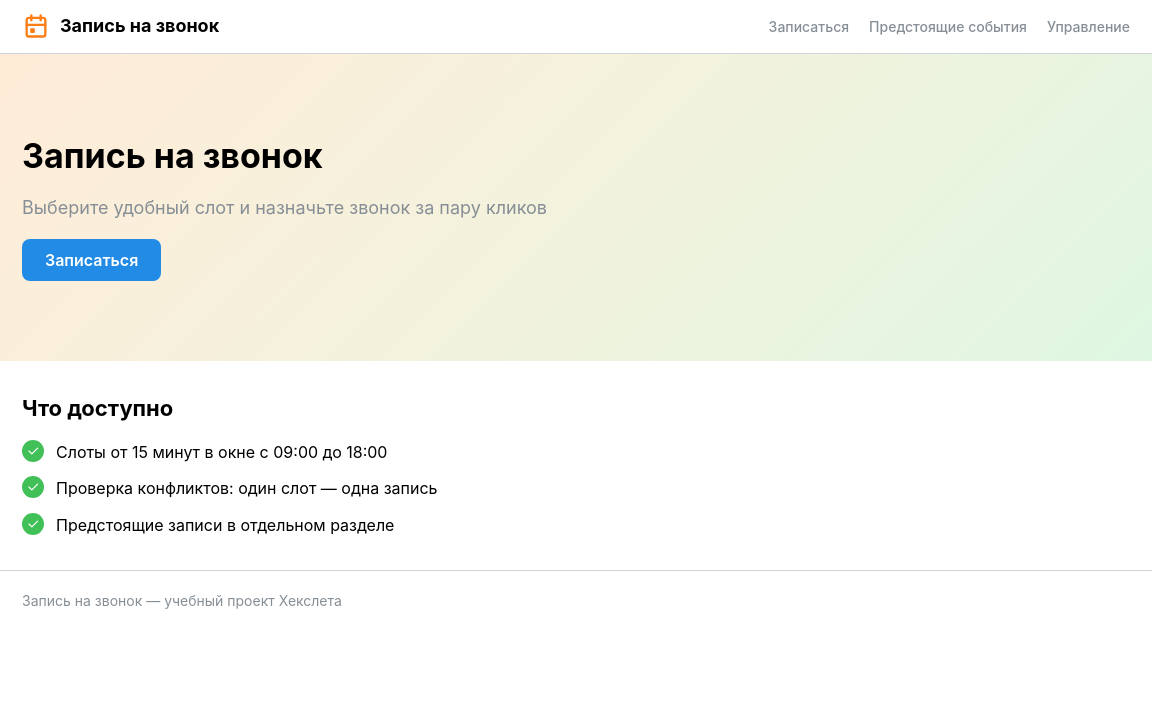
Scenario: App › переводит в раздел записи по кнопке «Записаться»
Click the link "Записаться" next to "Предстоящие события".
click(809, 26)  # box [769,14,849,39]
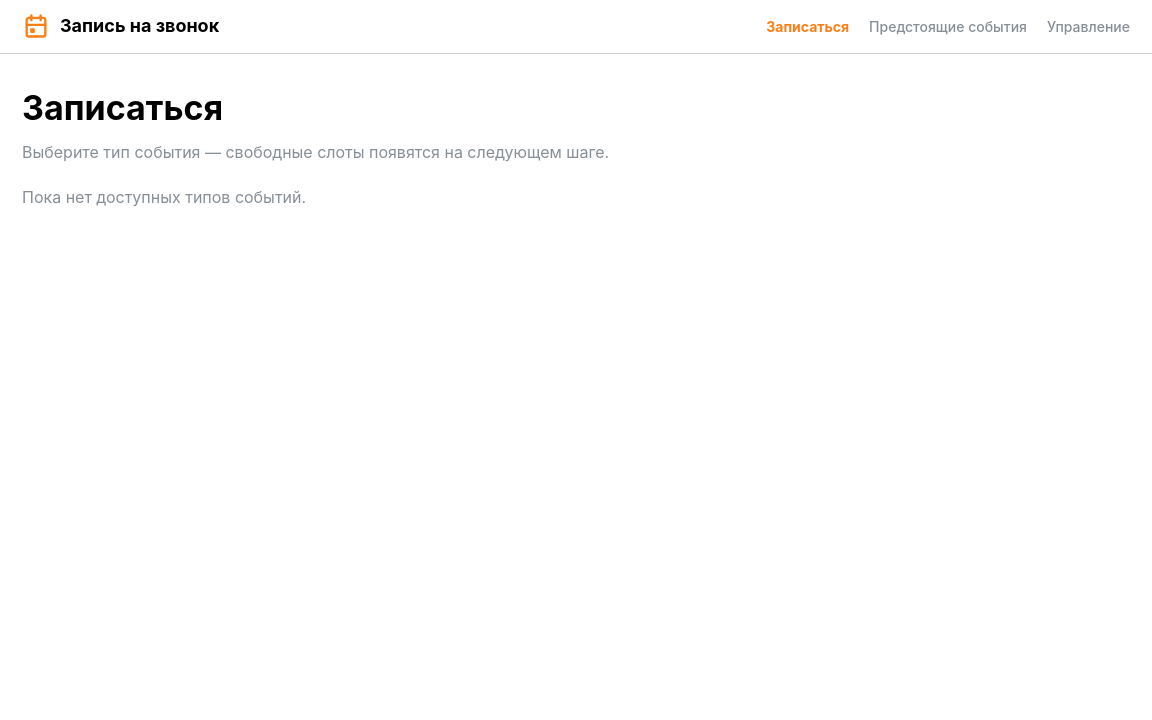
Result: the heading "Записаться" is shown at [22,87,223,128]
